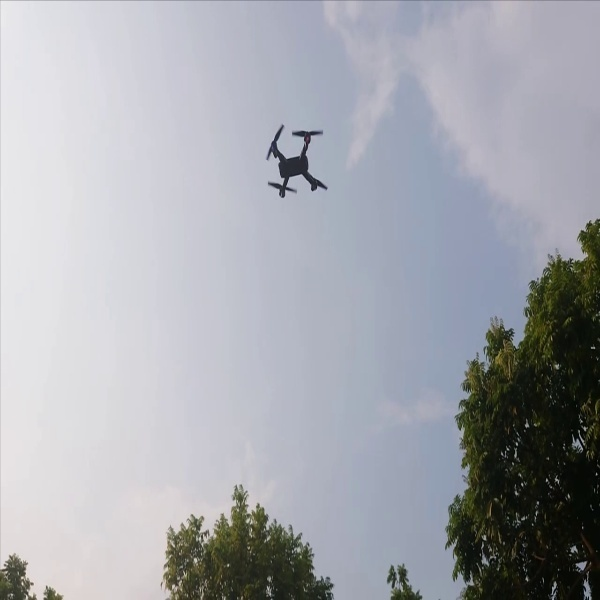drone: (256, 120, 331, 205)
